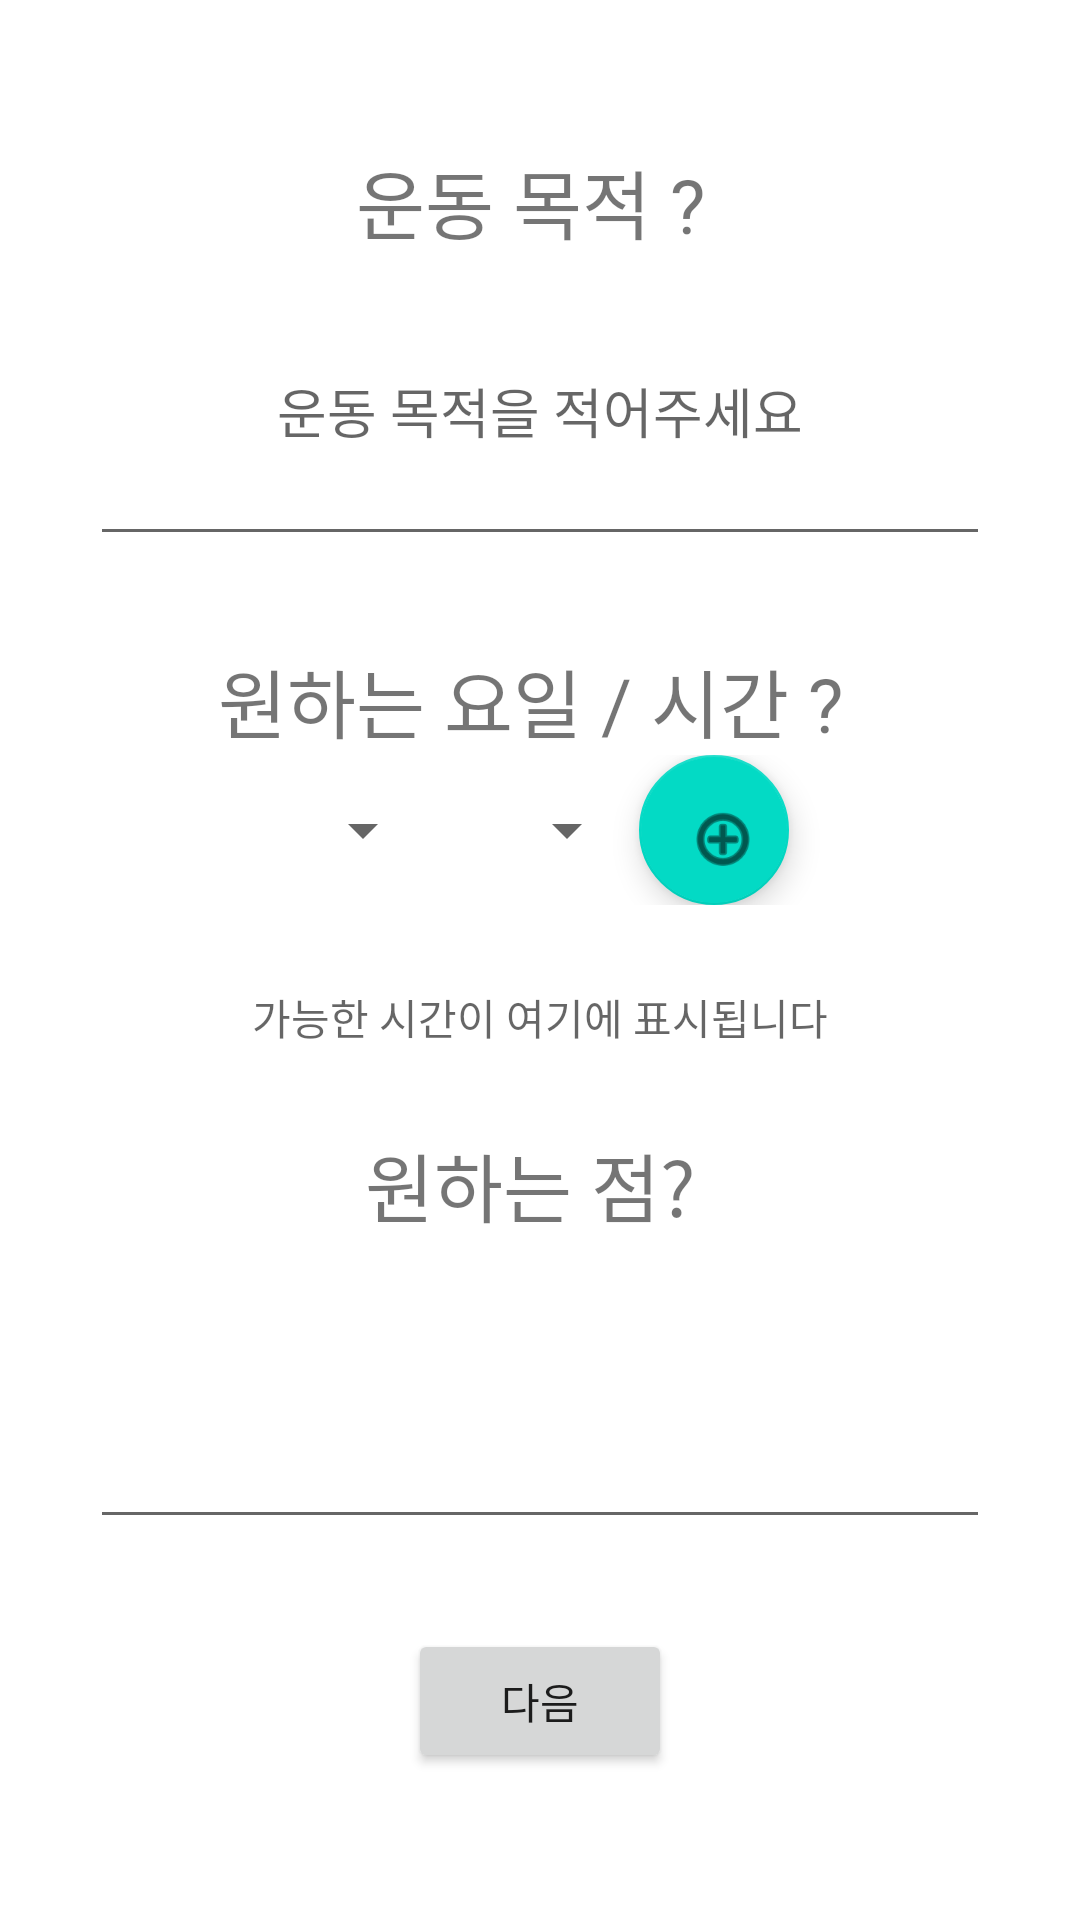

Point at icon controls on the screen. Image size 1080*1920, points as [x,y].
add: [714,830]
